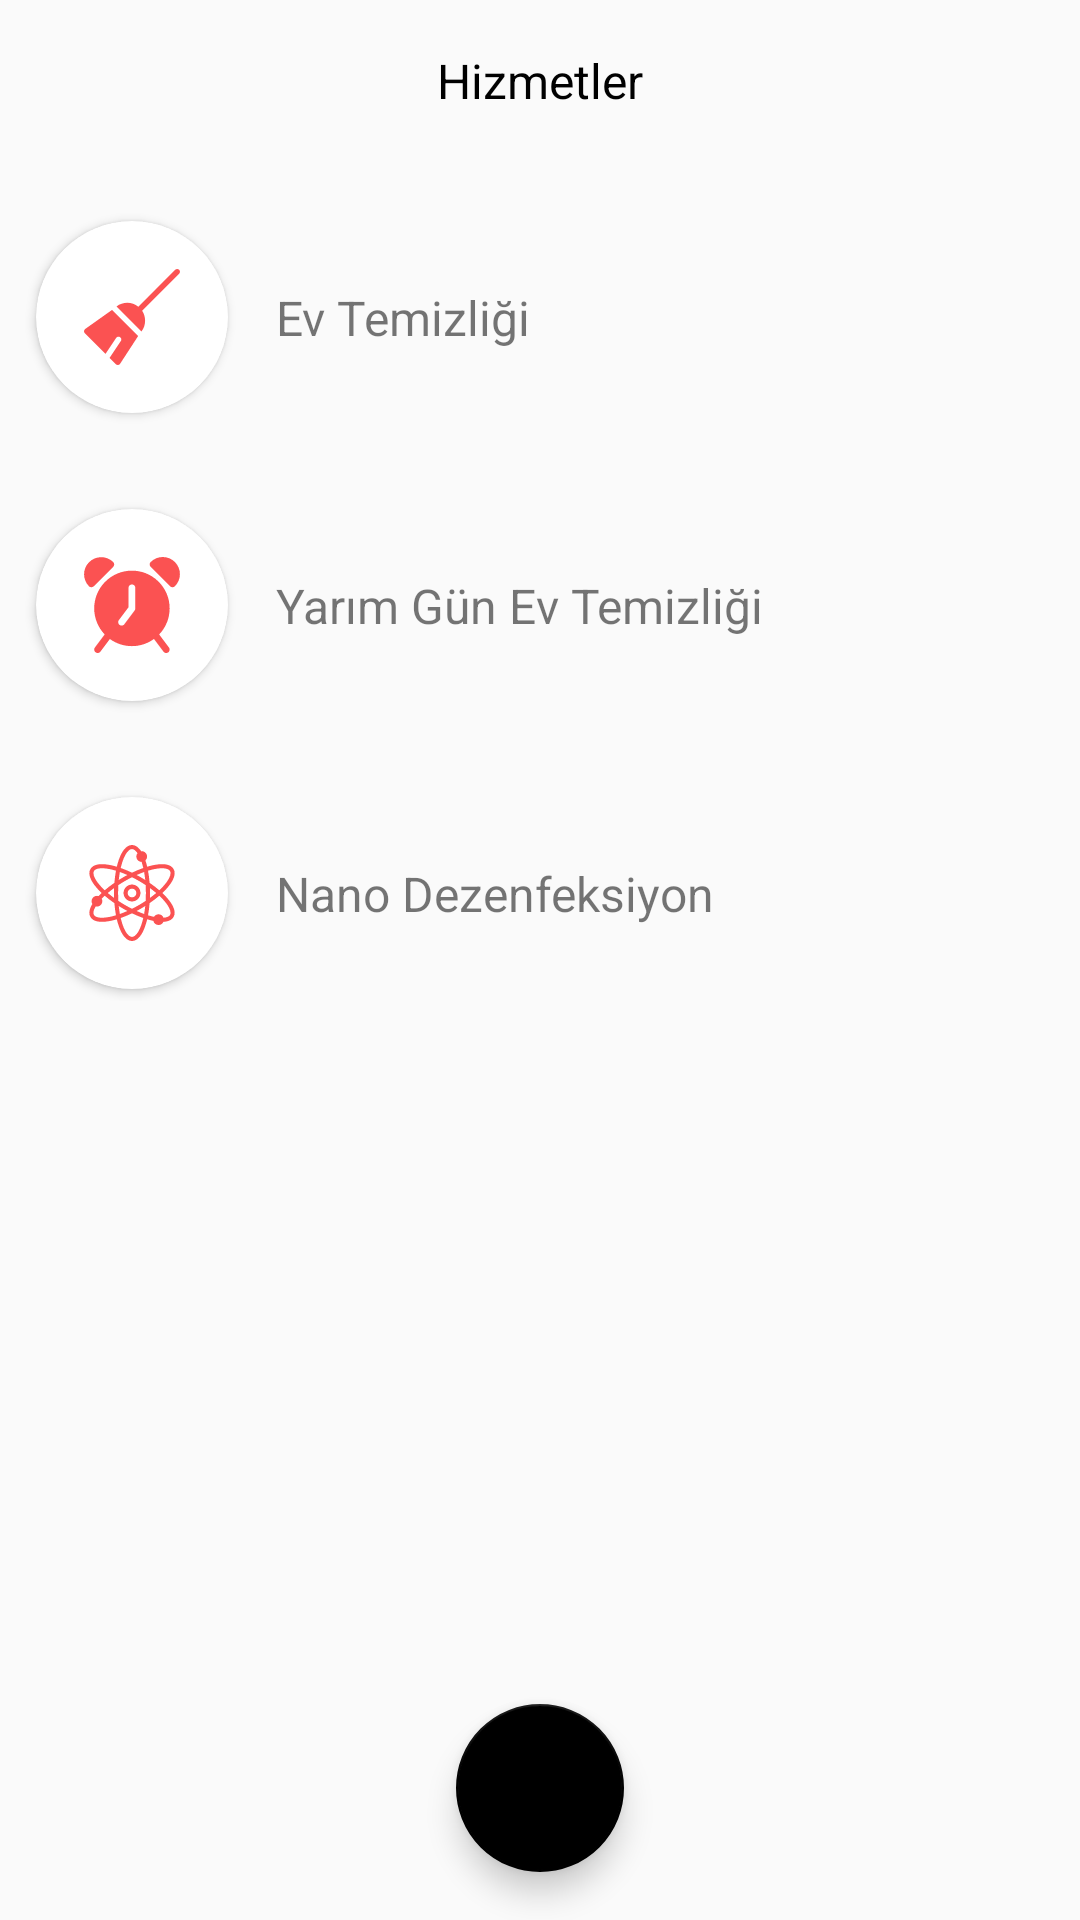

Point at icon controls on the screen. Image size 1080x1920, points as [x,y].
clean: [113,323]
clock: [125,623]
physics: [129,917]
